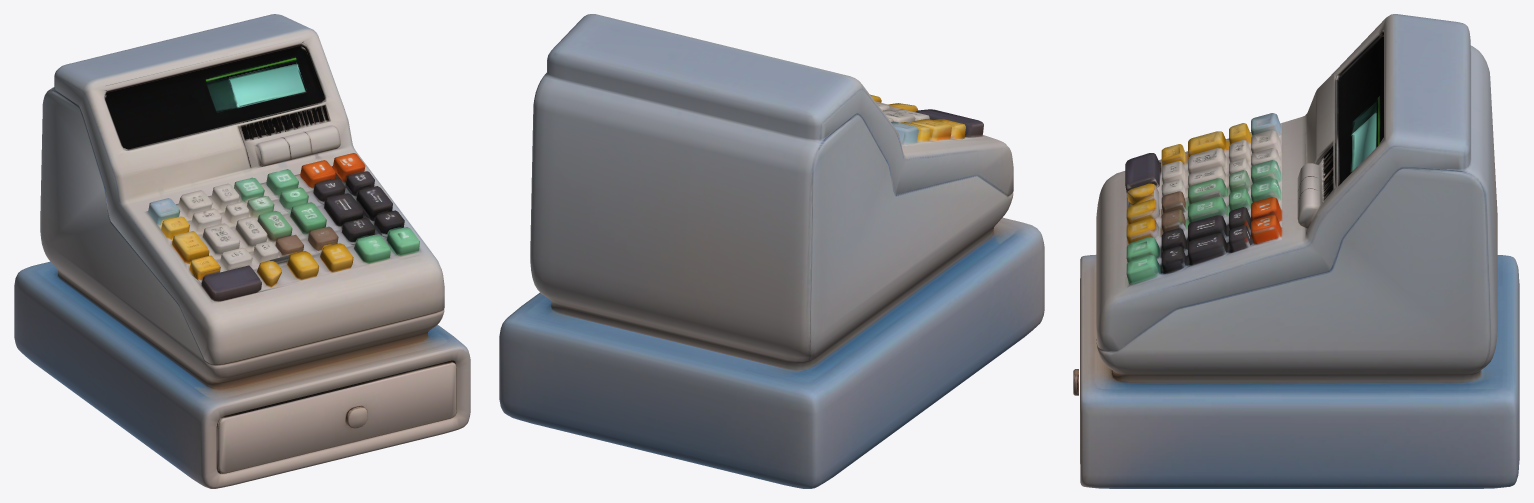
Rendered from cash_register_0c0dcad2_v1.glb.
3 views of the same model, side by side, from view 1: azimuth 30°, elevation 25°; view 2: azimuth 150°, elevation 25°; view 3: azimuth 270°, elevation 25° (orthographic). The views are drawn at different scales.
Visible parts, largest first — view 1: material; view 2: material; view 3: material.
Boxes of the visible parts, left/top/right/bottom form: material: left=14, top=14, right=470, bottom=488; material: left=499, top=14, right=1044, bottom=488; material: left=1073, top=14, right=1519, bottom=488.
Bounding box in the file's own units: 1.49 × 1.63 × 1.9.
1 material, 1 textured.
